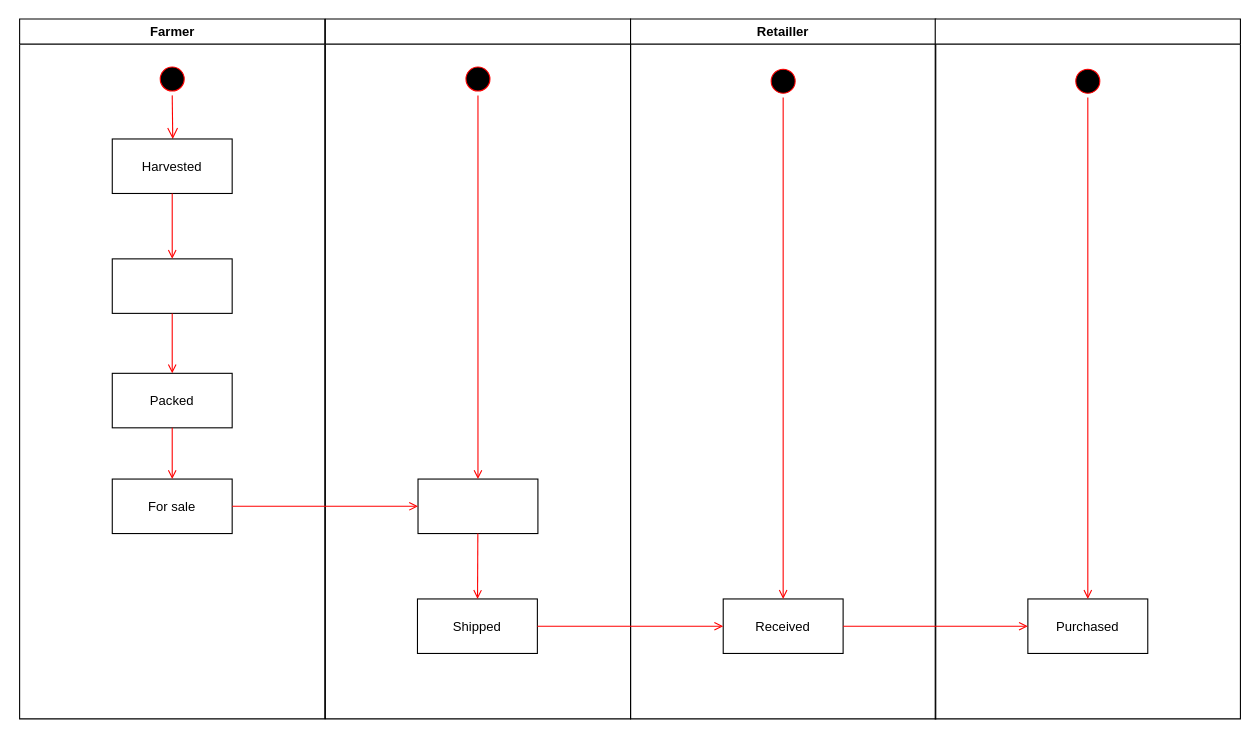
Some shapes in this 1259 by 738 pixel diagram are drawn without their labels. Here are the shapes that lost their labels. From the top down, the box of each, then its label:
(111, 258, 232, 313): Processed
(324, 18, 631, 719): Distributor
(934, 18, 1240, 719): Consumer
(417, 478, 538, 534): Sold
